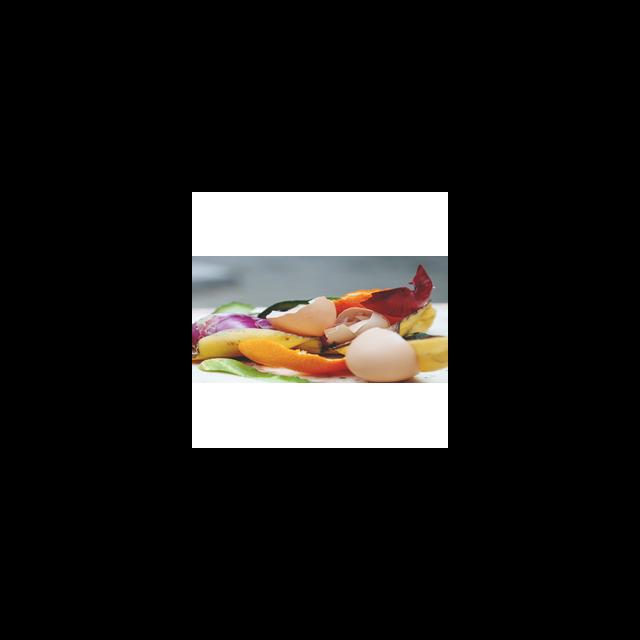food_waste: (192, 278, 448, 383)
